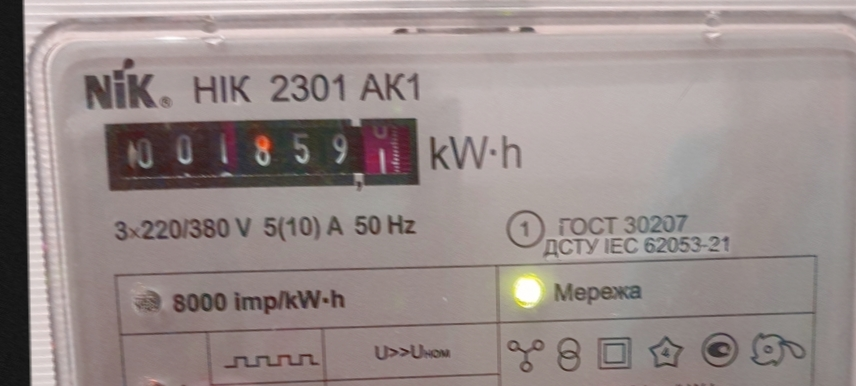0: (134, 134, 154, 170), (173, 131, 193, 165)
1: (217, 129, 229, 165), (375, 144, 388, 175)
5: (291, 129, 311, 165)
8: (252, 132, 272, 167)
9: (329, 130, 349, 165)
screen: (93, 104, 430, 201)
